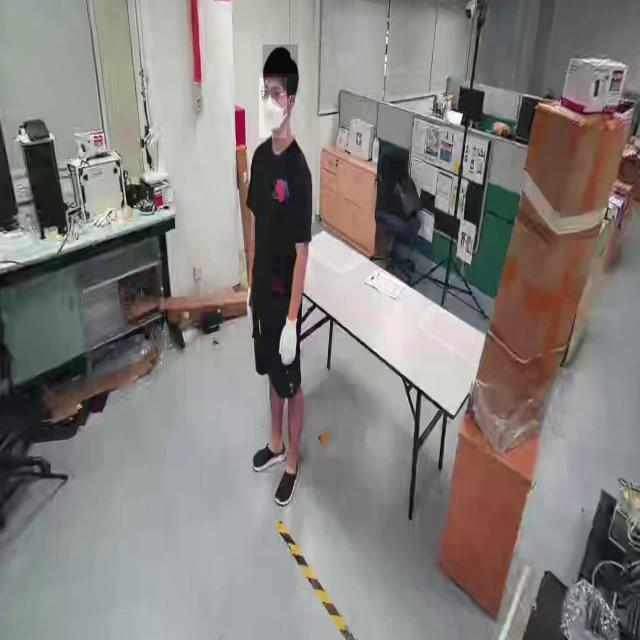face_mask: (259, 77, 287, 138)
glasses: (256, 86, 284, 109)
hand_glove: (277, 311, 303, 374)
head_nohelmet: (262, 44, 298, 74)
person: (240, 42, 314, 506)
shoes: (272, 458, 303, 514), (250, 435, 287, 473)
